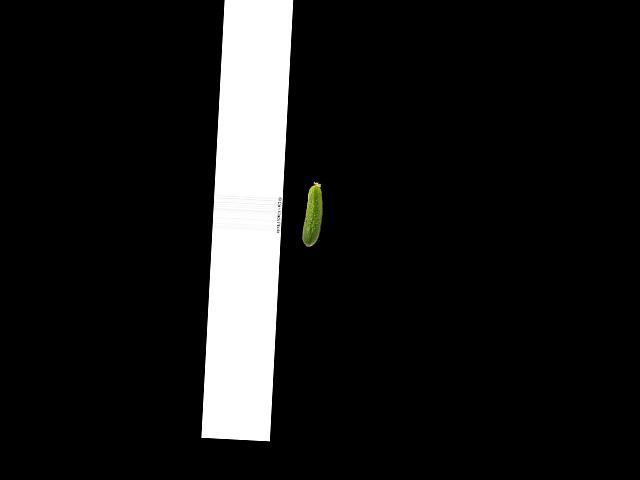cucumber: (301, 181, 323, 247)
